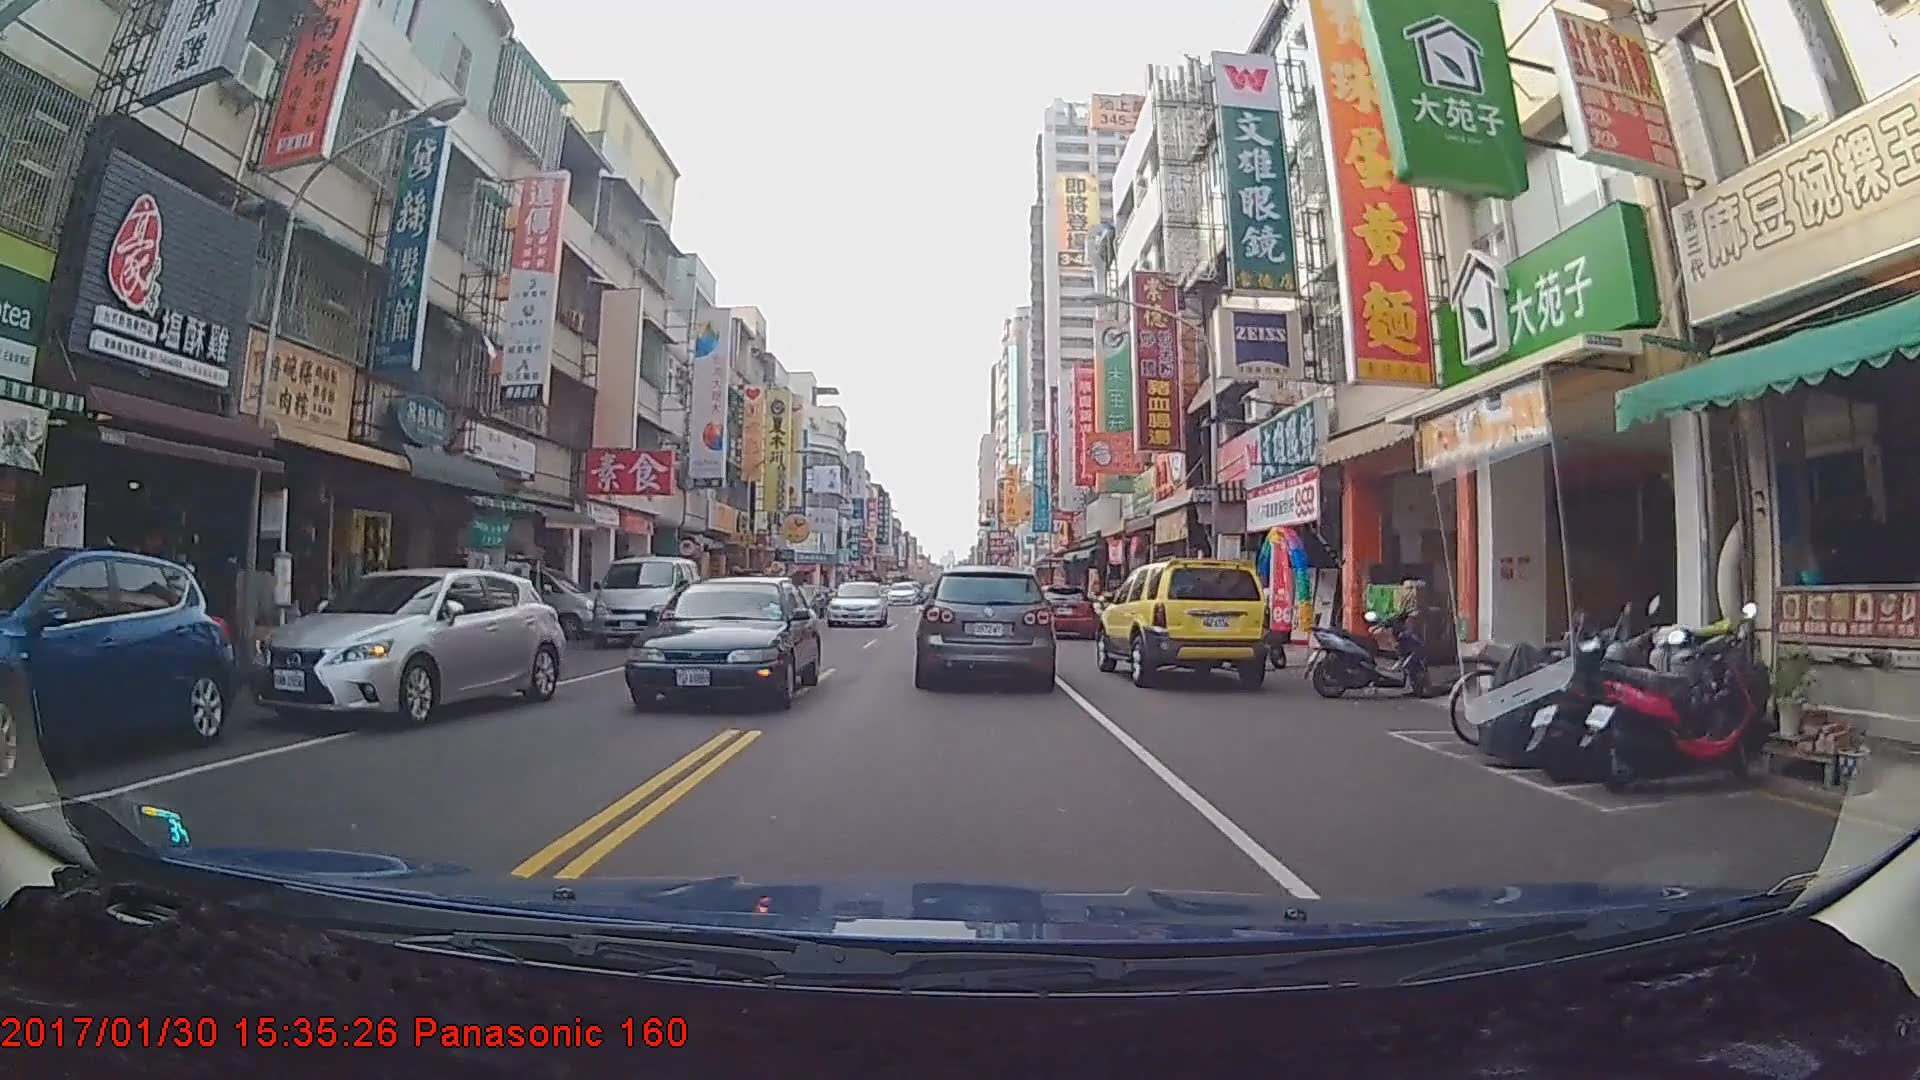vehicle: (0, 545, 239, 778), (243, 564, 564, 728), (618, 572, 825, 713), (1096, 553, 1273, 686), (916, 564, 1055, 688), (591, 556, 702, 647), (1029, 585, 1096, 640), (825, 580, 887, 629), (887, 582, 919, 607)
